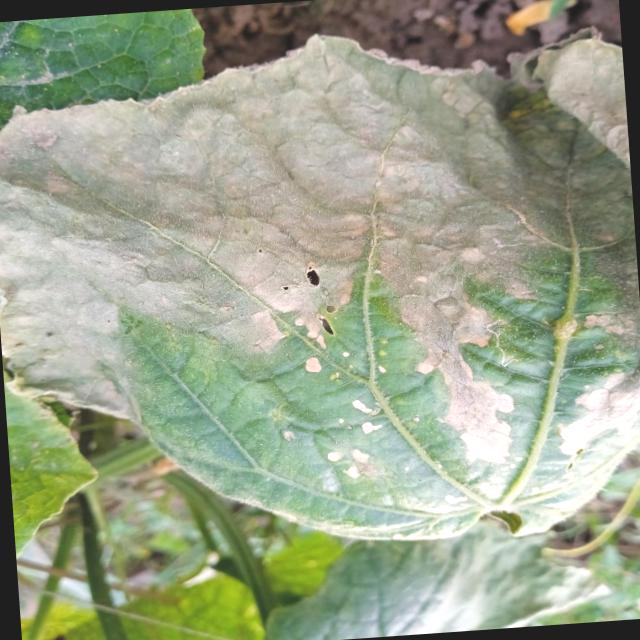cucumber_gummy: (0, 6, 640, 577)
